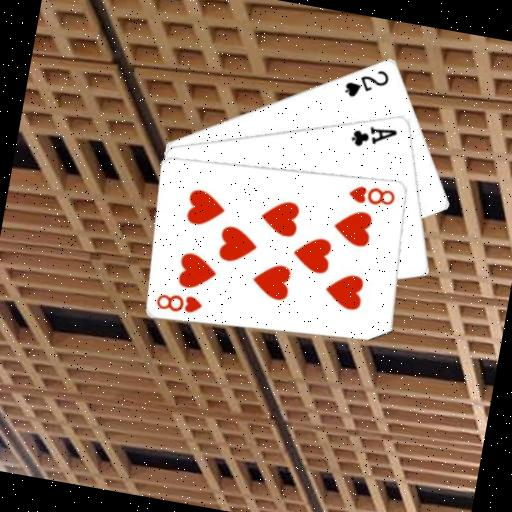2S: (340, 60, 393, 105)
8H: (344, 179, 398, 211), (152, 286, 205, 317)
AC: (346, 119, 399, 154)
